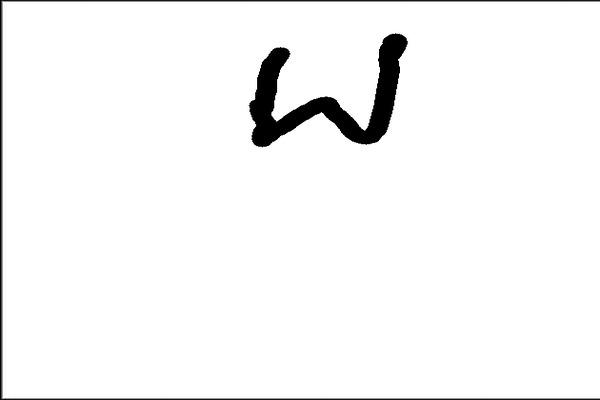w: (231, 18, 419, 163)
